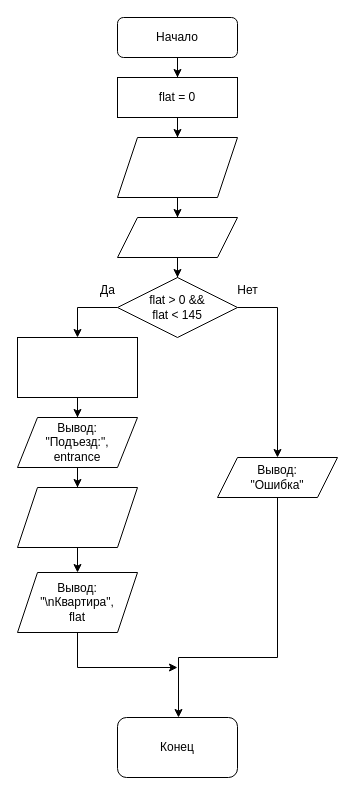
Some shapes in this 355 by 795 pixel diagram are drawn without their labels. Each missing label, with the box of its shape:
entrance = (flat - 1) / 36 + 1; floor = (flat - 1) % 36 / 4 + 1;: (16, 336, 138, 398)
Ввод flat: (116, 216, 238, 258)
Вывод: "\nЭтаж:", floor: (16, 486, 138, 548)
Вывод: Введите номер квартиры:: (116, 136, 238, 198)
